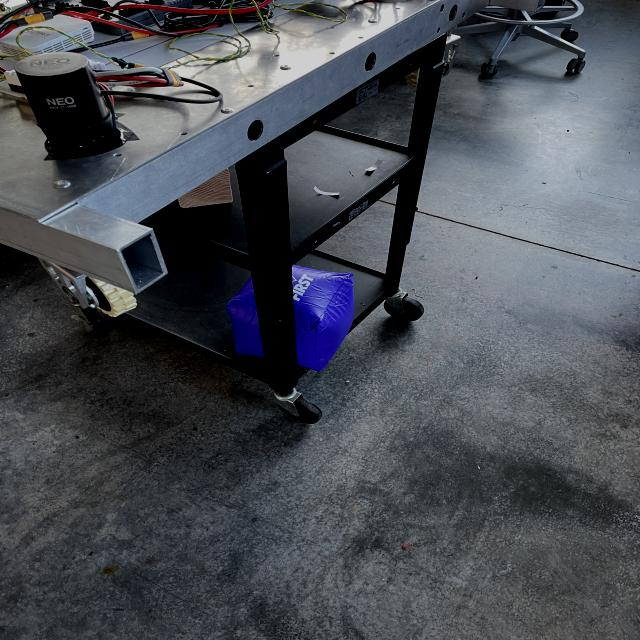frc_cube: (217, 263, 375, 369)
